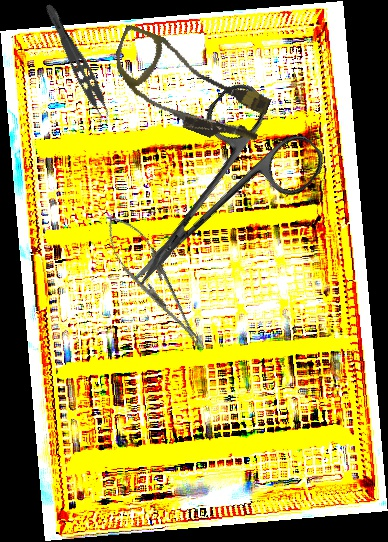Cannula: (99, 23, 279, 154)
Iris Scissors: (88, 74, 332, 322)
Needle Holder: (92, 205, 215, 356)
Tissue Forceps: (34, 1, 118, 129)
